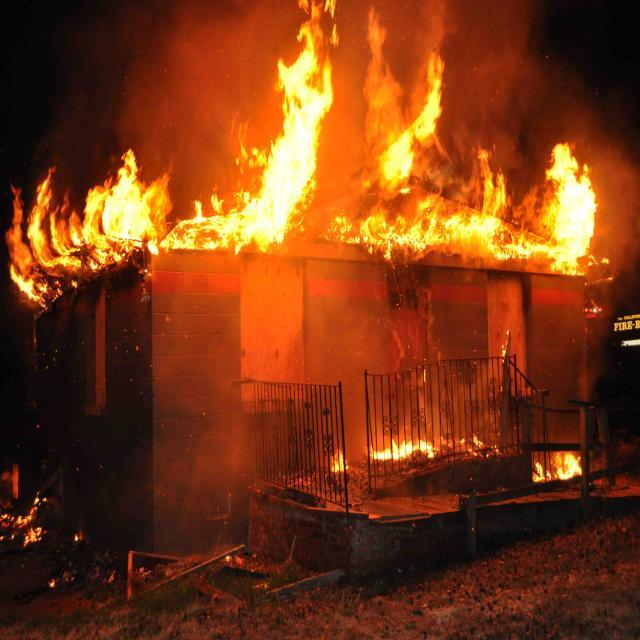Fire: (233, 0, 339, 252), (327, 146, 508, 262), (362, 6, 446, 190), (84, 144, 174, 284), (505, 143, 598, 274), (5, 158, 84, 308), (158, 188, 236, 252), (0, 492, 52, 548), (369, 436, 436, 462), (534, 449, 582, 481), (442, 432, 499, 456), (331, 448, 349, 471)
Smoke: (446, 0, 542, 147), (244, 282, 388, 374), (172, 0, 236, 185), (596, 143, 638, 271), (194, 402, 255, 490), (118, 51, 170, 142), (503, 328, 511, 359)
